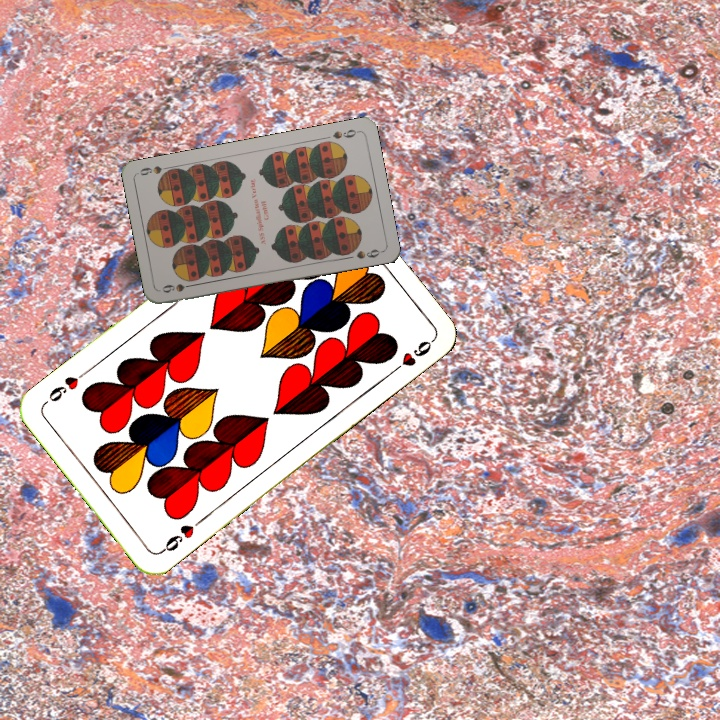H9: (156, 514, 206, 556)
S9: (158, 279, 199, 295), (329, 125, 361, 142)
